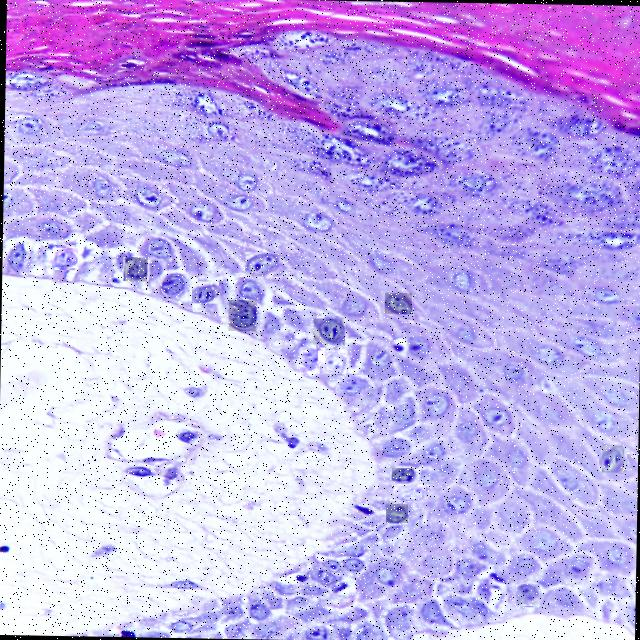Multiple Nucleol: (227, 300, 255, 331), (312, 319, 343, 344), (244, 253, 278, 275), (298, 348, 323, 374), (601, 444, 623, 472), (190, 282, 218, 303), (392, 484, 424, 502), (317, 353, 345, 373), (123, 257, 146, 281), (384, 293, 410, 314), (336, 375, 362, 395), (51, 247, 76, 267), (515, 584, 536, 605), (385, 504, 407, 522), (391, 468, 412, 481)
